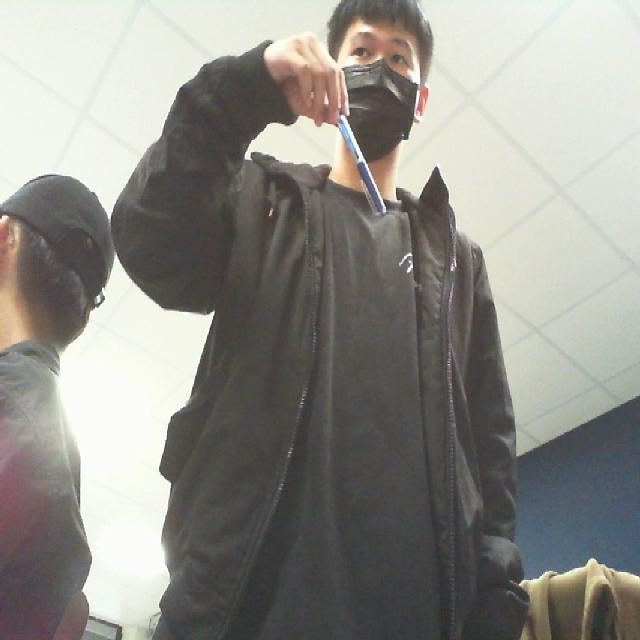Pen: (318, 94, 394, 224)
